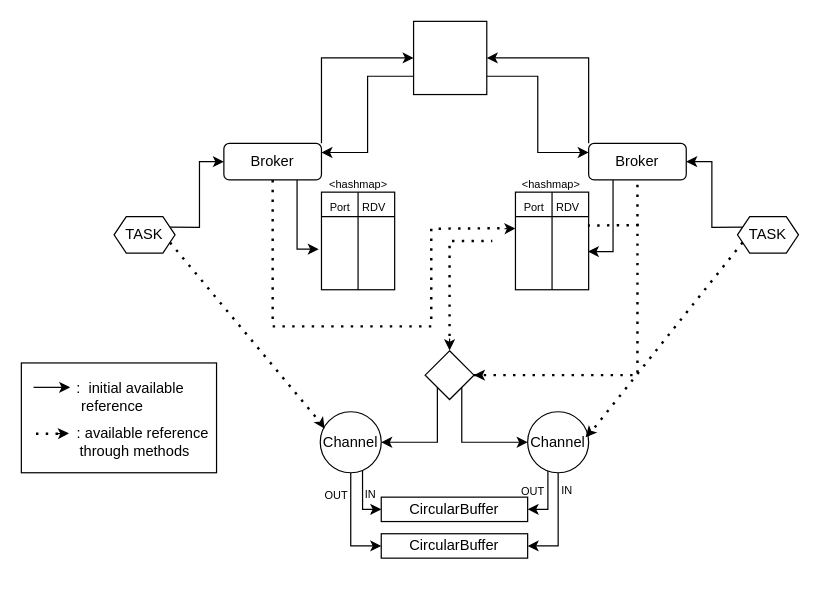
The diagram is 820 pixels wide and 589 high, and some of its shapes have lost their labels. The shapes that lost their labels are listed below. From the top down, each one's box as (x1, y1, x2, y2) in pixels, then its label:
(412, 20, 487, 95): Broker Manager
(424, 350, 474, 400): RDV
